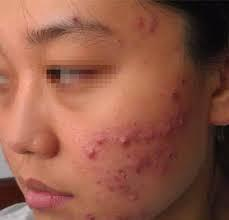fore: (115, 130, 132, 146), (82, 142, 97, 160), (158, 160, 173, 178), (161, 88, 179, 101), (151, 145, 166, 159), (163, 149, 182, 160), (152, 122, 169, 134), (125, 157, 144, 167), (130, 16, 143, 30), (178, 75, 194, 86), (138, 125, 151, 138), (128, 126, 141, 137), (172, 114, 185, 125), (91, 134, 105, 144), (117, 165, 128, 177), (141, 152, 152, 163), (119, 185, 132, 193), (164, 120, 177, 128), (111, 176, 122, 185), (94, 175, 102, 187), (148, 25, 157, 35), (130, 190, 139, 200), (104, 184, 110, 194), (151, 17, 157, 26)
